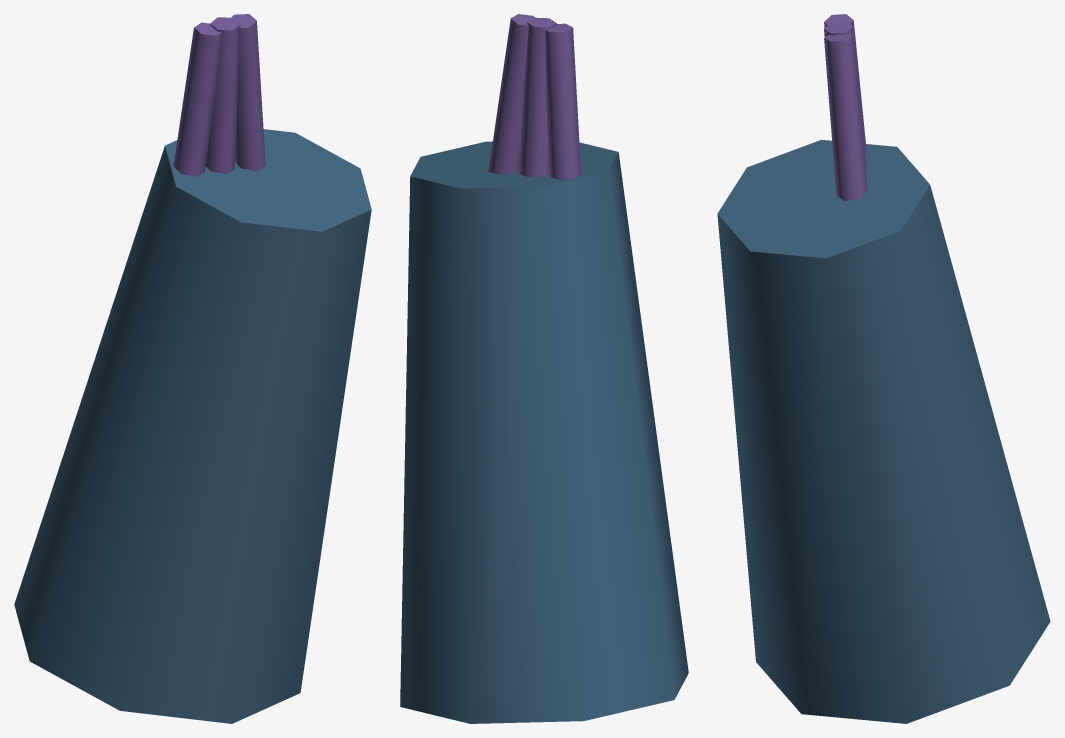
Rendered from off_12_storm_quiver.glb.
3 views of the same model, side by side, from view 1: azimuth 30°, elevation 25°; view 2: azimuth 150°, elevation 25°; view 3: azimuth 270°, elevation 25° (orthographic).
Parts seen in each view (by area): view 1: quiver, bolt_0, bolt_2, bolt_1; view 2: quiver, bolt_0, bolt_2, bolt_1; view 3: quiver, bolt_2, bolt_1.
Boxes of the visible parts, <box> form: quiver: <box>14,129,371,723</box>; bolt_0: <box>173,22,221,176</box>; bolt_2: <box>231,14,265,171</box>; bolt_1: <box>205,17,240,174</box>; quiver: <box>400,141,688,723</box>; bolt_0: <box>545,23,581,179</box>; bolt_2: <box>488,14,534,174</box>; bolt_1: <box>519,17,556,176</box>; quiver: <box>717,139,1050,723</box>; bolt_2: <box>824,33,867,201</box>; bolt_1: <box>824,21,866,171</box>.
Bounding box in the file's own units: 0.4037 × 0.8808 × 0.4026.
